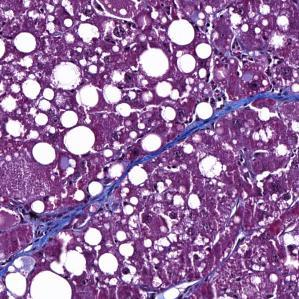fibrosis: (24, 195, 118, 252)
